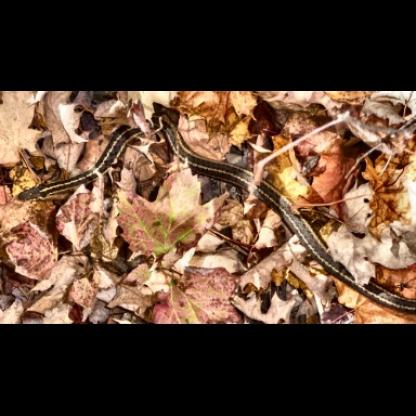Snake: (96, 113, 267, 208), (12, 176, 98, 211)
